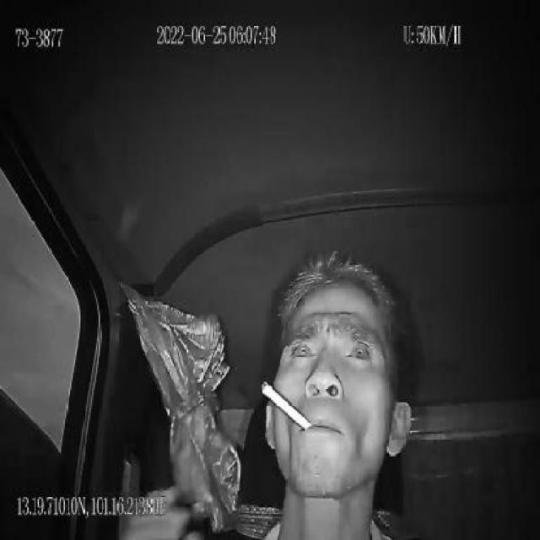smoking: (260, 376, 314, 432)
